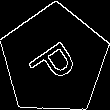P_NE: (24, 31, 84, 90)
